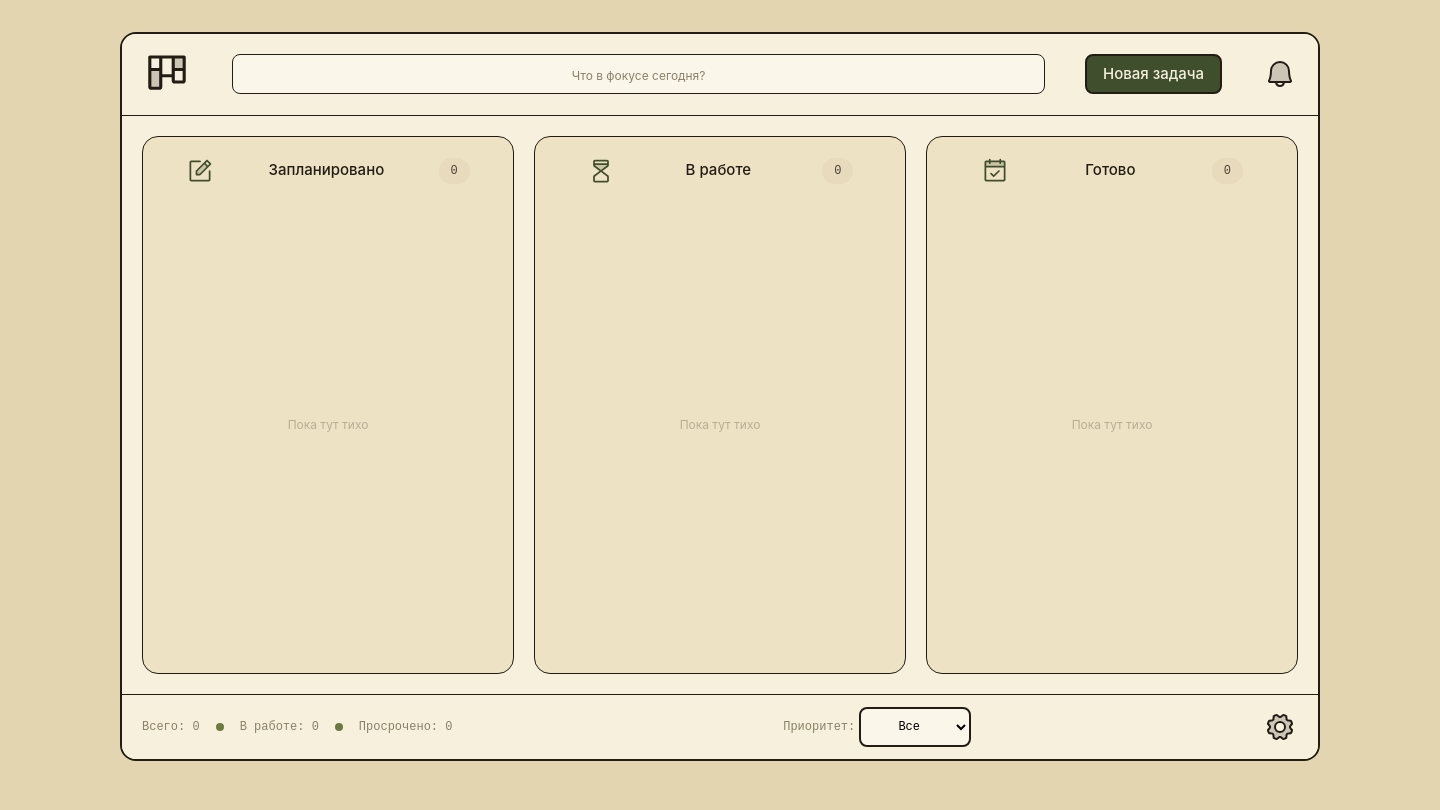
Scenario: App › creates task through App
This screenshot has width=1440, height=810.
Click the button "Новая задача" at (1154, 74), box [1085,54,1222,94]
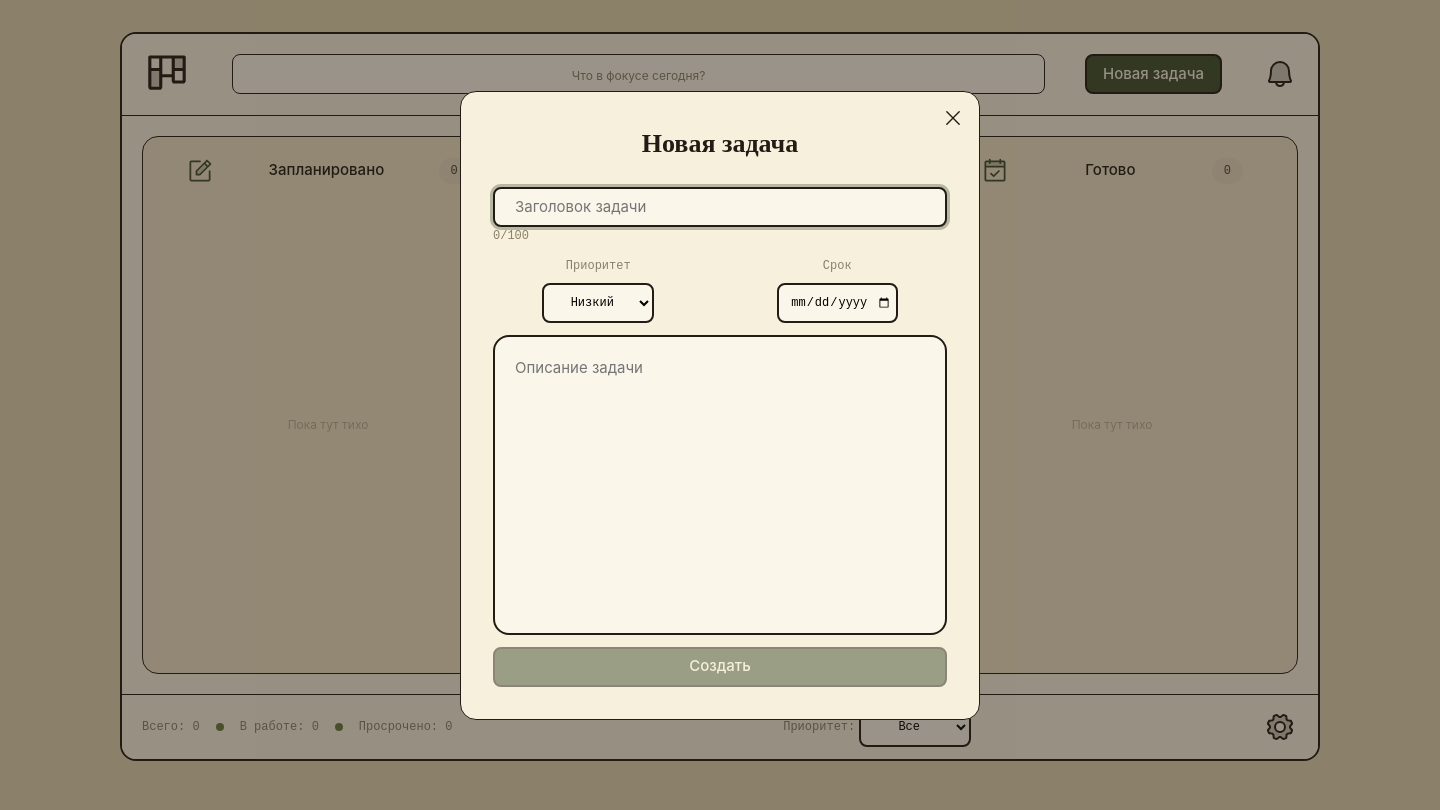
Expected: the field with placeholder "Заголовок задачи" is shown
Type "test-title" into the field with placeholder "Заголовок задачи" at (720, 206), box [493,186,947,226]
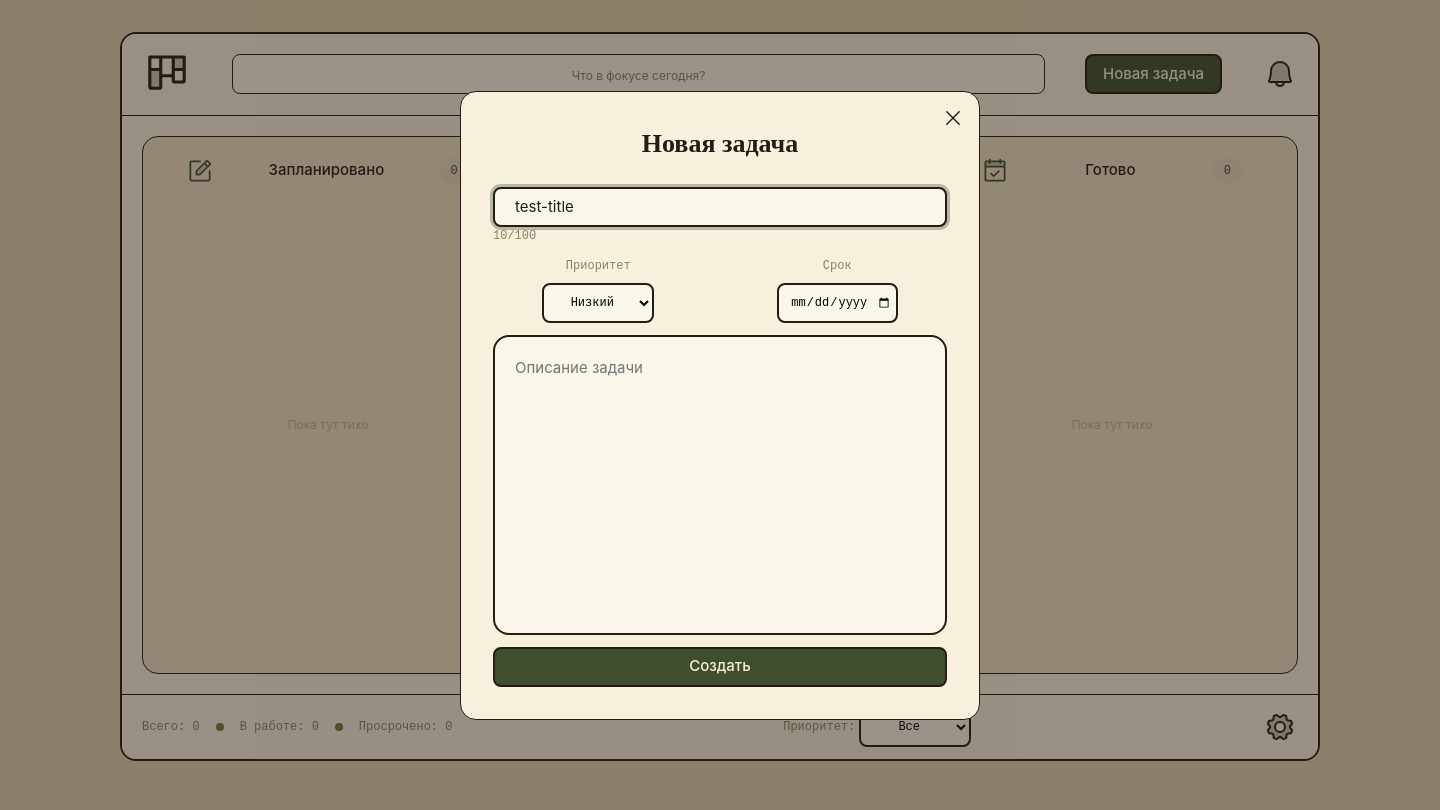
Click the button "Создать" at (720, 666), box [493,646,947,686]
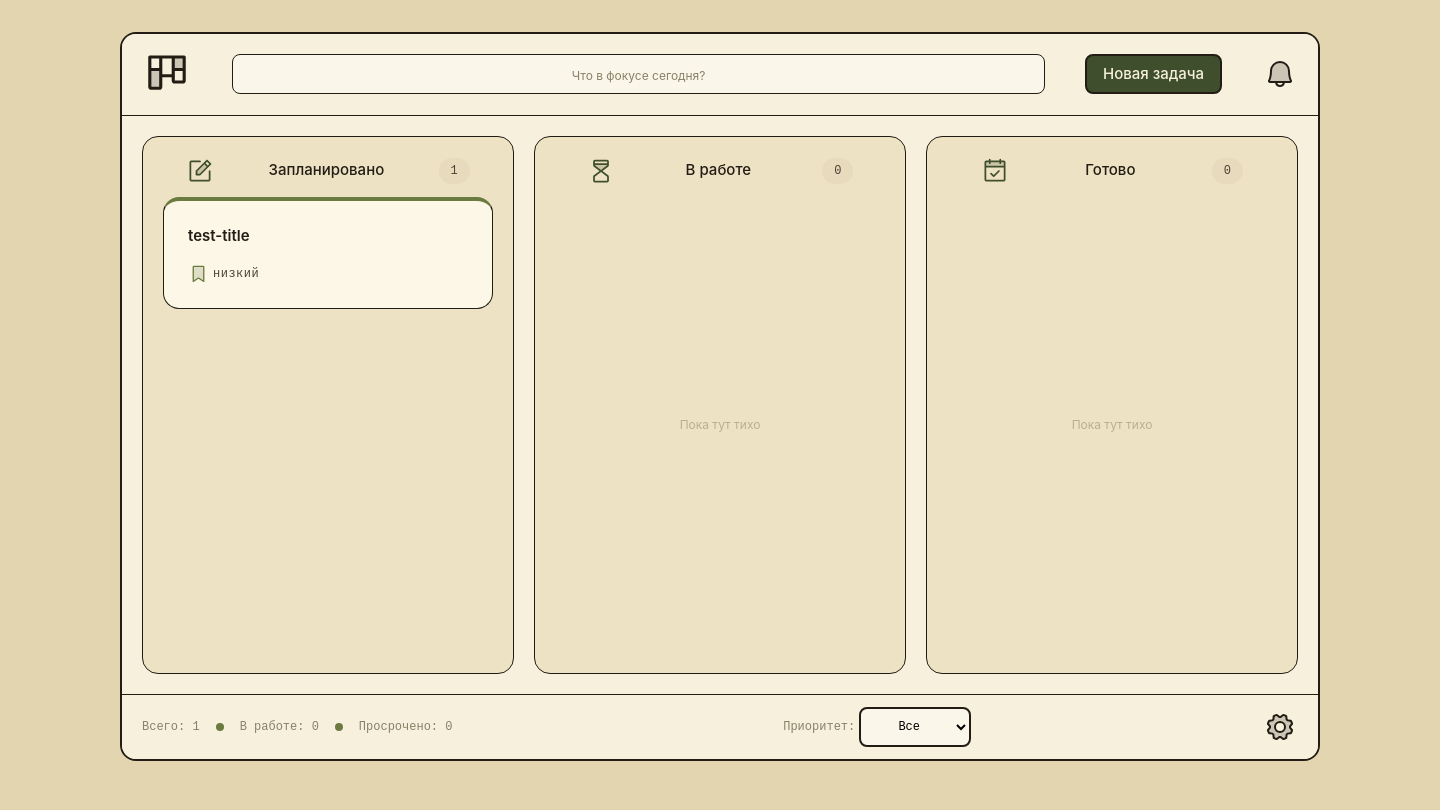
Expected: the field with placeholder "Заголовок задачи" is not shown
Expected: the text "test-title" is shown, [188,226,250,244]
